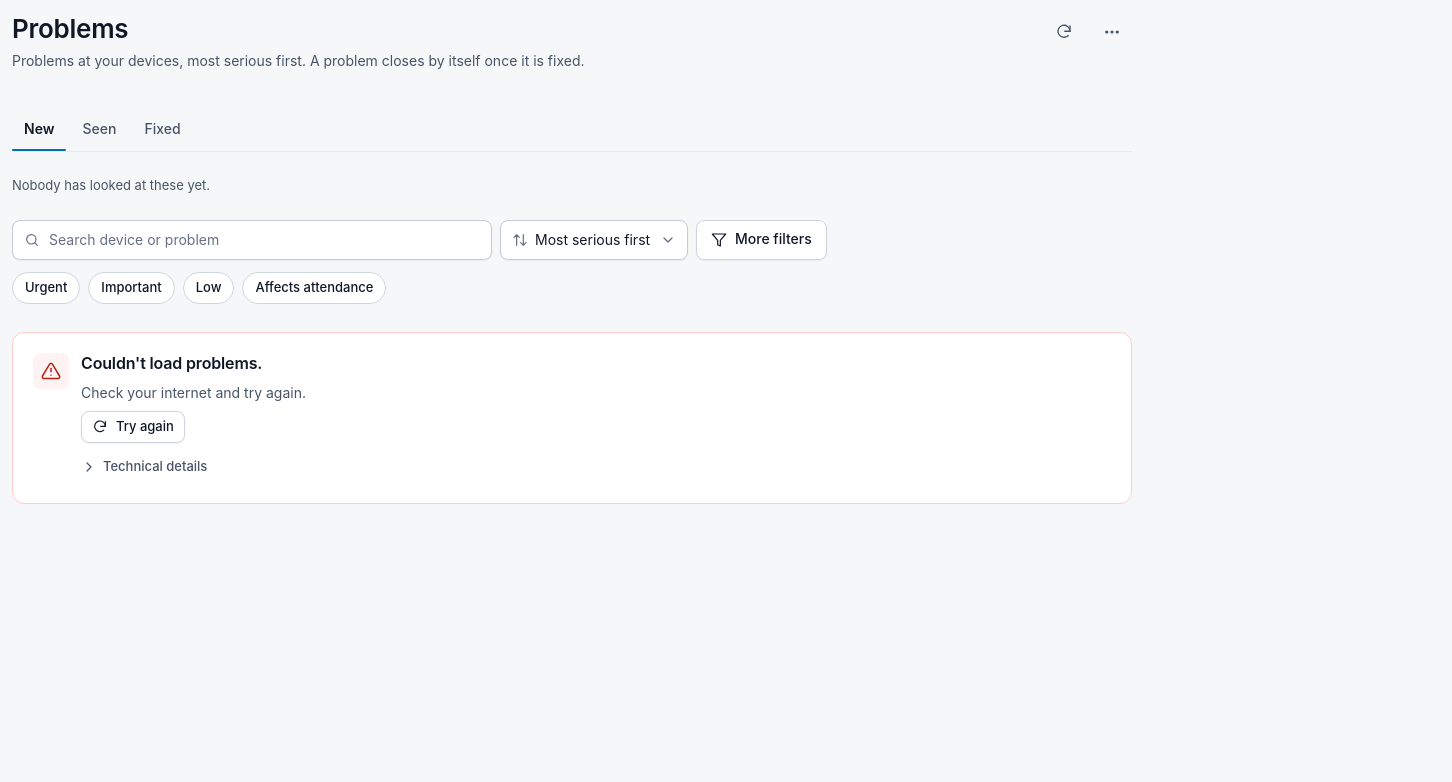
Scenario: Problems page › shows skeletons and no counts before the first answer, then an error with Try again
Later steps or results of the test are not shown.
Check: the tab "New" is shown, box [12,107,66,151]
Check: the heading "Couldn't load problems." is shown, box [81,353,262,374]
Click the button "Try again" at [133, 427], box [81,411,185,443]
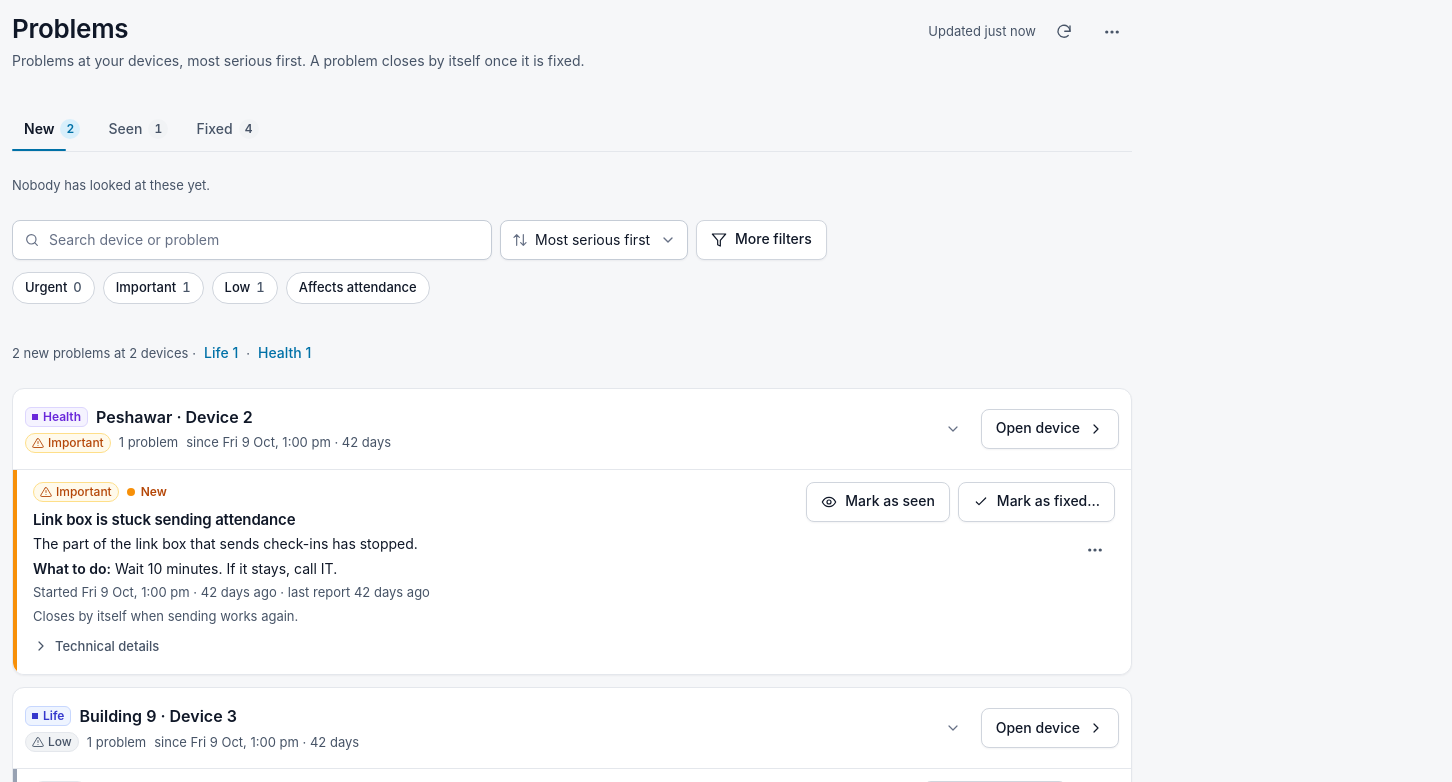
Check: the heading "Link box is stuck sending attendance" is shown, box [33,510,295,529]
